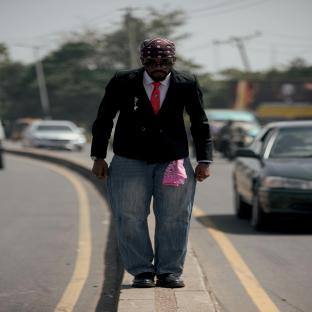Human: (91, 38, 213, 287)
